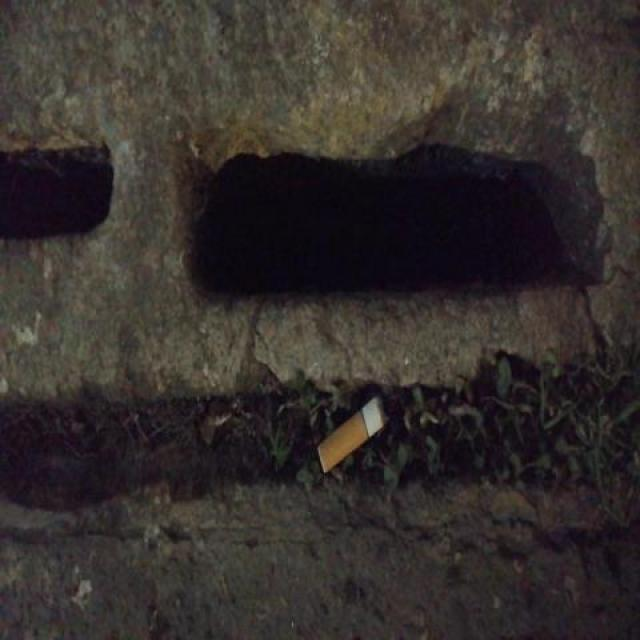non-organic waste: (311, 393, 393, 478)
